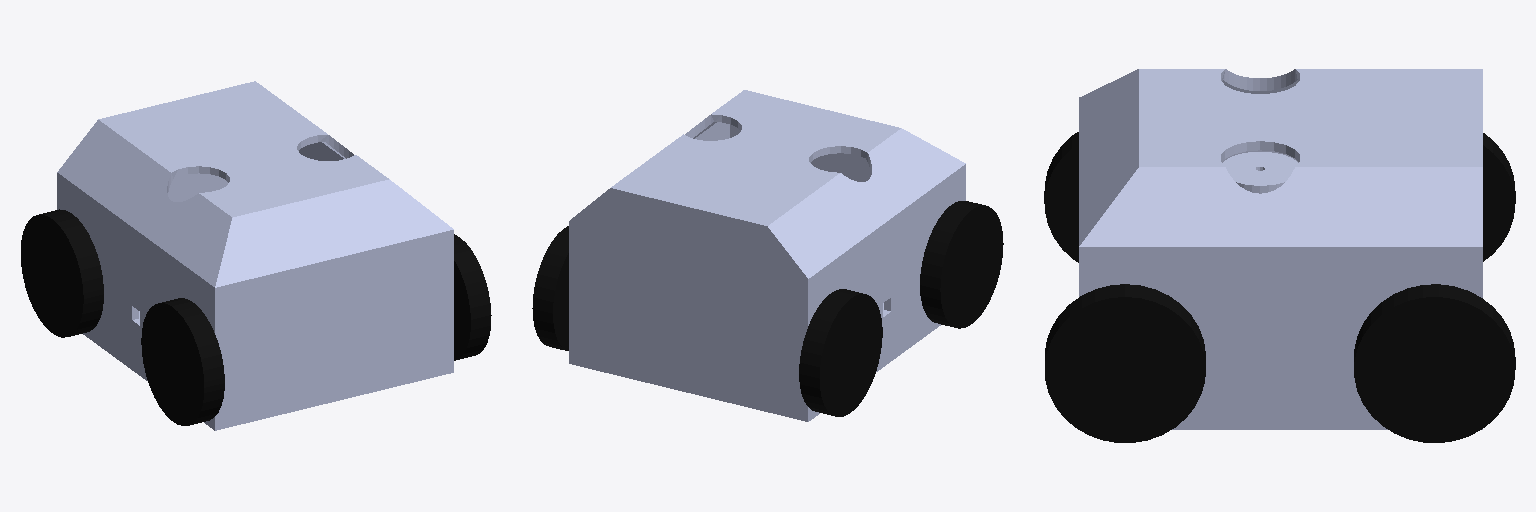
URDF robot description (URDF):
<?xml version="1.0" encoding="utf-8"?>
<!-- This URDF was automatically created by SolidWorks to URDF Exporter! Originally created by Stephen Brawner (brawner@gmail.com) 
     Commit Version: 1.6.0-4-g7f85cfe  Build Version: 1.6.7995.38578
     For more information, please see http://wiki.ros.org/sw_urdf_exporter -->
<robot
  name="URDF">
  <!-- ✅ 新增：世界坐标系根连杆（无几何，仅作为坐标系参考） -->
  <link name="world" />

  <!-- ✅ 核心：全局旋转关节，将base_link连接到world，这里的旋转会带动整个机器人翻正 -->
  <joint name="world_to_base" type="fixed">
    <parent link="world" />
    <child link="base_link" />
    <origin xyz="0 0 0" rpy="-1.5708 0 0" />  <!-- 旋转补偿核心，优先试这个值 -->
  </joint>
  <!-- base link -->
  <link
    name="base_link">
    <inertial>
      <origin
        xyz="8.81981428078991E-05 -0.000708189608539354 0.108414515965737"
        rpy="0 0 0" />
      <mass
        value="7.86541982071816" />
      <inertia
        ixx="0.147385267820076"
        ixy="4.87232883621826E-07"
        ixz="-5.25311149906748E-06"
        iyy="0.111742631460037"
        iyz="-0.00057298476133231"
        izz="0.218839337559416" />
    </inertial>
    <visual>
      <origin
        xyz="0 0 0"
        rpy="0 0 0" />
      <geometry>
        <mesh
          filename="package://seaweashr-description/URDF/meshes/base_link.STL" />
      </geometry>
      <material
        name="">
        <color
          rgba="0.792156862745098 0.819607843137255 0.933333333333333 1" />
      </material>
    </visual>
    <collision>
      <origin
        xyz="0 0 0"
        rpy="0 0 0" />
      <geometry>
        <mesh
          filename="package://seaweashr-description/URDF/meshes/base_link.STL" />
      </geometry>
    </collision>
  </link>
  <link
    name="leftfrontwheel_Link">
    <inertial>
      <origin
        xyz="0.186 -0.26 0.07"
        rpy="0 0 0" />
      <mass
        value="0.65973" />
      <inertia
        ixx="0.001933"
        ixy="-3.9269E-19"
        ixz="-4.5173E-20"
        iyy="0.0017344"
        iyz="-3.8519E-34"
        izz="0.0017344" />
    </inertial>
    <visual>
      <origin
        xyz="0 0 0"
        rpy="0 0 0" />
      <geometry>
        <mesh
          filename="package://seaweashr-description/URDF/meshes/leftfrontwheel_Link.STL" />
      </geometry>
      <material
        name="">
        <color
          rgba="0.098039 0.098039 0.098039 1" />
      </material>
    </visual>
    <collision>
      <origin
        xyz="0 0 0"
        rpy="0 0 0" />
      <geometry>
        <mesh
          filename="package://seaweashr-description/URDF/meshes/leftfrontwheel_Link.STL" />
      </geometry>
    </collision>
  </link>
  <joint
    name="leftfrontjoint"
    type="continuous">
    <origin
      xyz="0 -0.34223 -0.083776"
      rpy="-3.1416 0 0" />
    <parent
      link="base_link" />
    <child
      link="leftfrontwheel_Link" />
    <axis
      xyz="1 0 0" />
  </joint>
  <link
    name="rightfrontwheel_Link">
    <inertial>
      <origin
        xyz="-0.186 -0.26 0.07"
        rpy="0 0 0" />
      <mass
        value="0.659734457253857" />
      <inertia
        ixx="0.0019330219597538"
        ixy="-9.92924677451742E-20"
        ixz="-2.06720667964179E-21"
        iyy="0.00173444188812039"
        iyz="-1.6940658945086E-21"
        izz="0.00173444188812039" />
    </inertial>
    <visual>
      <origin
        xyz="0 0 0"
        rpy="0 0 0" />
      <geometry>
        <mesh
          filename="package://seaweashr-description/URDF/meshes/rightfrontwheel_Link.STL" />
      </geometry>
      <material
        name="">
        <color
          rgba="0.0980392156862745 0.0980392156862745 0.0980392156862745 1" />
      </material>
    </visual>
    <collision>
      <origin
        xyz="0 0 0"
        rpy="0 0 0" />
      <geometry>
        <mesh
          filename="package://seaweashr-description/URDF/meshes/rightfrontwheel_Link.STL" />
      </geometry>
    </collision>
  </link>
  <joint
    name="rightfrontjoint"
    type="continuous">
    <origin
      xyz="0 -0.013227 0.10649"
      rpy="1.5746 0 0" />
    <parent
      link="base_link" />
    <child
      link="rightfrontwheel_Link" />
    <axis
      xyz="1 0 0" />
  </joint>
  <link
    name="leftbackwheel_Link">
    <inertial>
      <origin
        xyz="0.186 0.04 0.07"
        rpy="0 0 0" />
      <mass
        value="0.659734457253857" />
      <inertia
        ixx="0.0019330219597538"
        ixy="-8.9053195220116E-19"
        ixz="-4.51725970653216E-20"
        iyy="0.00173444188812039"
        iyz="4.22185817084977E-35"
        izz="0.00173444188812039" />
    </inertial>
    <visual>
      <origin
        xyz="0 0 0"
        rpy="0 0 0" />
      <geometry>
        <mesh
          filename="package://seaweashr-description/URDF/meshes/leftbackwheel_Link.STL" />
      </geometry>
      <material
        name="">
        <color
          rgba="0.0980392156862745 0.0980392156862745 0.0980392156862745 1" />
      </material>
    </visual>
    <collision>
      <origin
        xyz="0 0 0"
        rpy="0 0 0" />
      <geometry>
        <mesh
          filename="package://seaweashr-description/URDF/meshes/leftbackwheel_Link.STL" />
      </geometry>
    </collision>
  </link>
  <joint
    name="leftbackjoint"
    type="continuous">
    <origin
      xyz="0 -0.012228 0.11249"
      rpy="1.5708 0 0" />
    <parent
      link="base_link" />
    <child
      link="leftbackwheel_Link" />
    <axis
      xyz="1 0 0" />
  </joint>
  <link
    name="rightbackwheel_Link">
    <inertial>
      <origin
        xyz="-0.186 0.04 0.07"
        rpy="0 0 0" />
      <mass
        value="0.659734457253857" />
      <inertia
        ixx="0.0019330219597538"
        ixy="8.89049644543465E-19"
        ixz="1.88079096131566E-34"
        iyy="0.00173444188812039"
        iyz="1.81464585269469E-36"
        izz="0.00173444188812039" />
    </inertial>
    <visual>
      <origin
        xyz="0 0 0"
        rpy="0 0 0" />
      <geometry>
        <mesh
          filename="package://seaweashr-description/URDF/meshes/rightbackwheel_Link.STL" />
      </geometry>
      <material
        name="">
        <color
          rgba="0.0980392156862745 0.0980392156862745 0.0980392156862745 1" />
      </material>
    </visual>
    <collision>
      <origin
        xyz="0 0 0"
        rpy="0 0 0" />
      <geometry>
        <mesh
          filename="package://seaweashr-description/URDF/meshes/rightbackwheel_Link.STL" />
      </geometry>
    </collision>
  </link>
  <joint
    name="rightbackjoint"
    type="continuous">
    <origin
      xyz="0 -0.012228 0.11249"
      rpy="1.5708 0 0" />
    <parent
      link="base_link" />
    <child
      link="rightbackwheel_Link" />
    <axis
      xyz="1 0 0" />
  </joint>
  <link
    name="leftmotor_Link">
    <inertial>
      <origin
        xyz="0.0950000014156103 -0.0200000002980232 0.16"
        rpy="0 0 0" />
      <mass
        value="0.00785397718670416" />
      <inertia
        ixx="6.59406831854161E-06"
        ixy="5.9740946667467E-56"
        ixz="6.91076009765075E-40"
        iyy="6.59406831854161E-06"
        iyz="-3.79438902730694E-39"
        izz="9.81746592429545E-08" />
    </inertial>
    <visual>
      <origin
        xyz="0 0 0"
        rpy="0 0 0" />
      <geometry>
        <mesh
          filename="package://seaweashr-description/URDF/meshes/leftmotor_Link.STL" />
      </geometry>
      <material
        name="">
        <color
          rgba="0.627450980392157 0.627450980392157 0.627450980392157 1" />
      </material>
    </visual>
    <collision>
      <origin
        xyz="0 0 0"
        rpy="0 0 0" />
      <geometry>
        <mesh
          filename="package://seaweashr-description/URDF/meshes/leftmotor_Link.STL" />
      </geometry>
    </collision>
  </link>
  <joint
    name="leftmotorjoint"
    type="continuous">
    <origin
      xyz="0 -0.32 -0.04"
      rpy="-1.5708 0 0" />
    <parent
      link="base_link" />
    <child
      link="leftmotor_Link" />
    <axis
      xyz="0 0 1" />
  </joint>
  <link
    name="rightmotor_Link">
    <inertial>
      <origin
        xyz="-0.095093 -0.019554 0.16"
        rpy="0 0 0" />
      <mass
        value="0.007854" />
      <inertia
        ixx="6.5941E-06"
        ixy="0"
        ixz="8.0933E-28"
        iyy="6.5941E-06"
        iyz="1.7233E-25"
        izz="9.8175E-08" />
    </inertial>
    <visual>
      <origin
        xyz="0 0 0"
        rpy="0 0 0" />
      <geometry>
        <mesh
          filename="file:///home/tse-yatsing/Underwater_Cleaning_Robot/Software/SeaWashr-ros2-ws/src/seaweashr-description/URDF/meshes/rightmotor_Link.STL" />
      </geometry>
      <material
        name="">
        <color
          rgba="0.62745 0.62745 0.62745 1" />
      </material>
    </visual>
    <collision>
      <origin
        xyz="0 0 0"
        rpy="0 0 0" />
      <geometry>
        <mesh
          filename="package://seaweashr-description/URDF/meshes/rightmotor_Link.STL" />
      </geometry>
    </collision>
  </link>
  <joint
    name="rightmotorjoint"
    type="continuous">
    <origin
      xyz="0 -0.32 -0.04"
      rpy="-1.5708 0.0046964 0" />
    <parent
      link="base_link" />
    <child
      link="rightmotor_Link" />
    <axis
      xyz="0 0 1" />
  </joint>
</robot>

--- What the picture shows (computed from the rendered views, not written in the file) ---
The picture shows the robot from 3 angles, left to right: view 1: azimuth 30°, elevation 25°; view 2: azimuth 150°, elevation 25°; view 3: azimuth 270°, elevation 25°; orthographic projection.
Model URDF with 8 links and 7 joints (6 continuous, 1 fixed), rooted at world, posed all joints at 0.
Visible links, largest first — view 1: base_link, rightfrontwheel_Link, rightbackwheel_Link, leftfrontwheel_Link; view 2: base_link, rightbackwheel_Link, rightfrontwheel_Link, leftbackwheel_Link; view 3: base_link, leftbackwheel_Link, leftfrontwheel_Link, rightfrontwheel_Link, rightbackwheel_Link.
Link boxes in pixels (x1,y1,x2,y2): base_link: (57, 81, 453, 430); rightfrontwheel_Link: (141, 298, 224, 425); rightbackwheel_Link: (21, 209, 103, 337); leftfrontwheel_Link: (454, 234, 491, 360); base_link: (569, 90, 965, 421); rightbackwheel_Link: (799, 289, 882, 416); rightfrontwheel_Link: (920, 201, 1003, 328); leftbackwheel_Link: (532, 226, 568, 350); base_link: (1079, 69, 1482, 429); leftbackwheel_Link: (1354, 284, 1515, 442); leftfrontwheel_Link: (1045, 284, 1205, 442); rightfrontwheel_Link: (1044, 132, 1078, 262); rightbackwheel_Link: (1483, 133, 1515, 261).
Size in the robot's own frame: 0.42 by 0.4663 by 0.26 metres.
6 mesh visuals loaded from 6 distinct referenced files (6 binary STL); not drawn: 1 (reference in a form the renderer does not follow; not among the files counted above).
